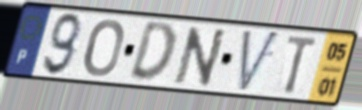9: (41, 10, 86, 79)
D: (126, 21, 178, 86)
N: (172, 25, 230, 89)
O: (82, 17, 125, 79)
T: (283, 34, 321, 97)
V: (236, 28, 283, 96)
